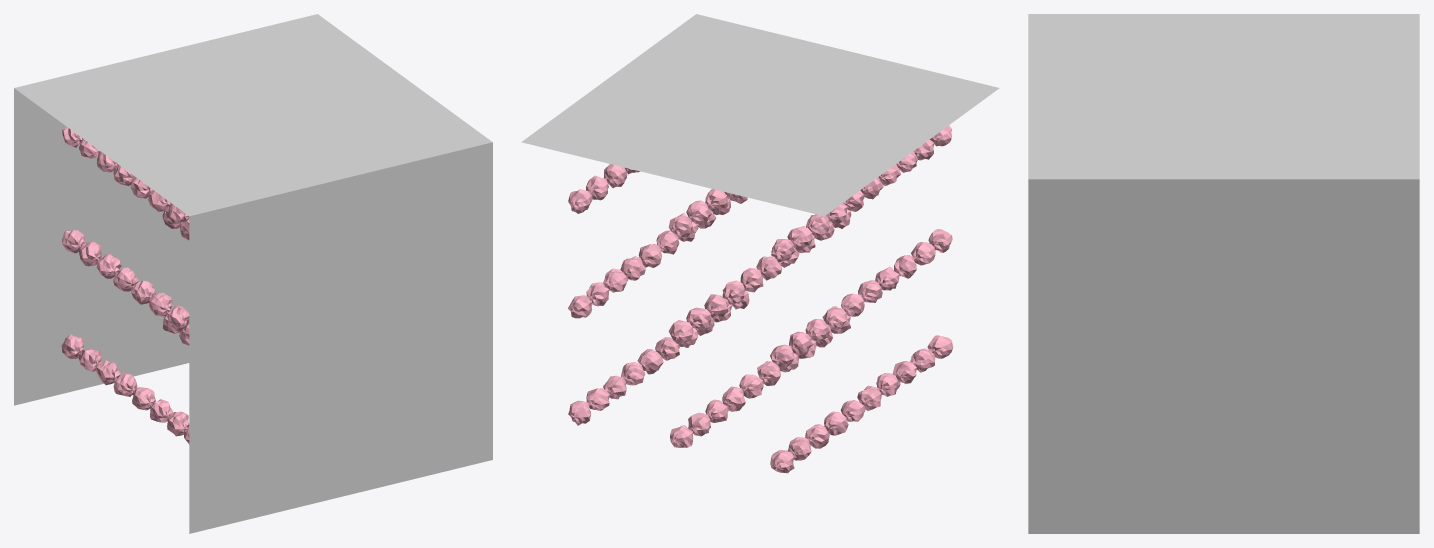
Rendered from mesenquimal_construct.glb.
The picture shows the model from 3 angles, left to right: view 1: azimuth 30°, elevation 25°; view 2: azimuth 150°, elevation 25°; view 3: azimuth 270°, elevation 25°; orthographic projection. The views are drawn at different scales.
Parts seen in each view (by area): view 1: Hydrogel, Cells; view 2: Hydrogel, Cells; view 3: Hydrogel.
Part boxes in pixels (x1,y1,x2,y2): Hydrogel: (14,14,492,533); Cells: (61,126,189,444); Hydrogel: (521,14,999,216); Cells: (568,125,953,473); Hydrogel: (1028,14,1419,533).
Size of the model in its own units: 30 by 30 by 30.
